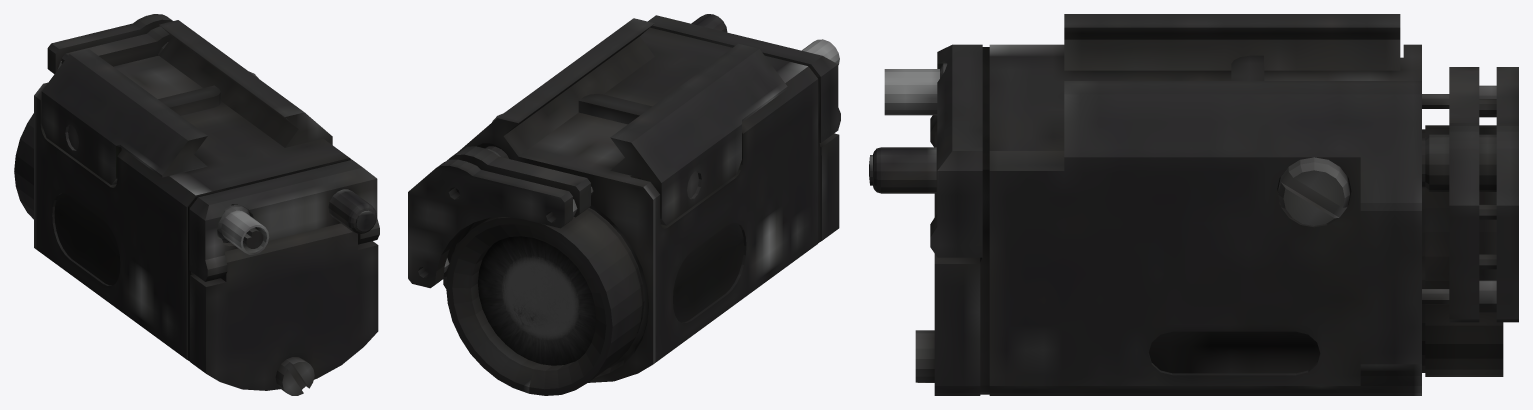
The picture shows the model from 3 angles, left to right: view 1: azimuth 30°, elevation 25°; view 2: azimuth 150°, elevation 25°; view 3: azimuth 270°, elevation 25°; orthographic projection. The views are drawn at different scales.
Visible parts, largest first — view 1: TW_560d657b4bdc2da74d8b4572_PZ_Import; view 2: TW_560d657b4bdc2da74d8b4572_PZ_Import; view 3: TW_560d657b4bdc2da74d8b4572_PZ_Import.
Boxes of the visible parts, bbox=[...] form: TW_560d657b4bdc2da74d8b4572_PZ_Import: bbox=[14, 14, 379, 395]; TW_560d657b4bdc2da74d8b4572_PZ_Import: bbox=[408, 14, 840, 395]; TW_560d657b4bdc2da74d8b4572_PZ_Import: bbox=[869, 14, 1518, 395].
Bounding box in the file's own units: 0.0231 × 0.0473 × 0.0262.
Materials: 1 (1 with a texture image).
